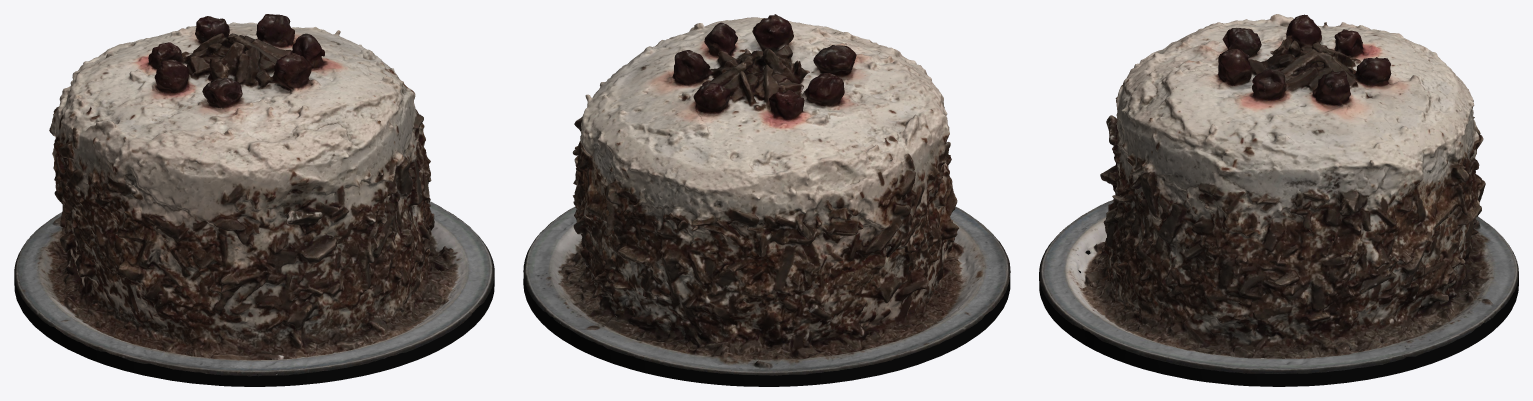
The model's file is blackforest.glb.
3 renders of one model, left to right at view 1: azimuth 30°, elevation 25°; view 2: azimuth 150°, elevation 25°; view 3: azimuth 270°, elevation 25°, orthographic.
Parts seen in each view (by area): view 1: BFG_Cake_BFG_Cake_01_0, base_base_0; view 2: BFG_Cake_BFG_Cake_01_0, base_base_0; view 3: BFG_Cake_BFG_Cake_01_0, base_base_0.
Boxes of the visible parts, box(x1,y1,x2,y2) form: BFG_Cake_BFG_Cake_01_0: box(14, 14, 494, 376); base_base_0: box(14, 277, 494, 386); BFG_Cake_BFG_Cake_01_0: box(523, 14, 1010, 375); base_base_0: box(523, 272, 1010, 386); BFG_Cake_BFG_Cake_01_0: box(1039, 14, 1518, 373); base_base_0: box(1039, 250, 1518, 386).
Bounding box in the file's own units: 0.3 × 0.1683 × 0.3.
Materials: 2 (1 with a texture image).
